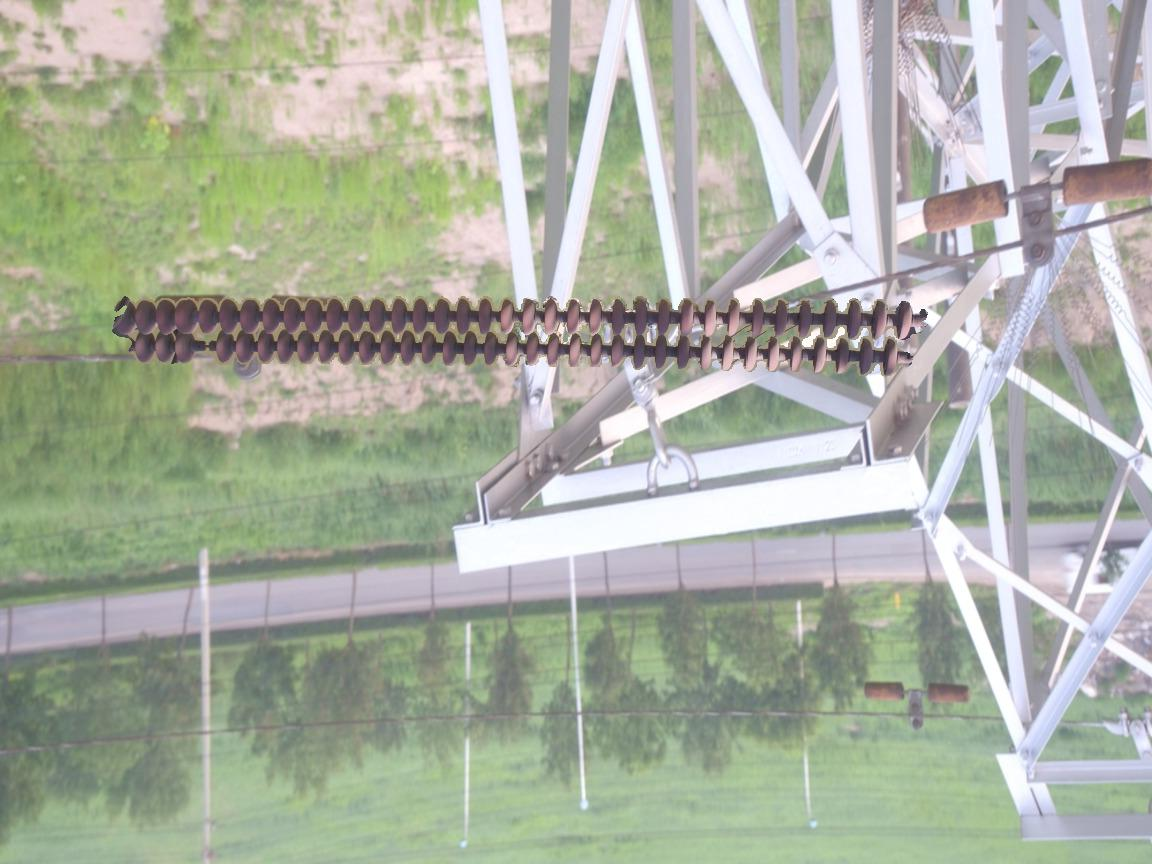insulator: (107, 287, 923, 380)
insulator_stringdrop: (172, 331, 236, 366)
